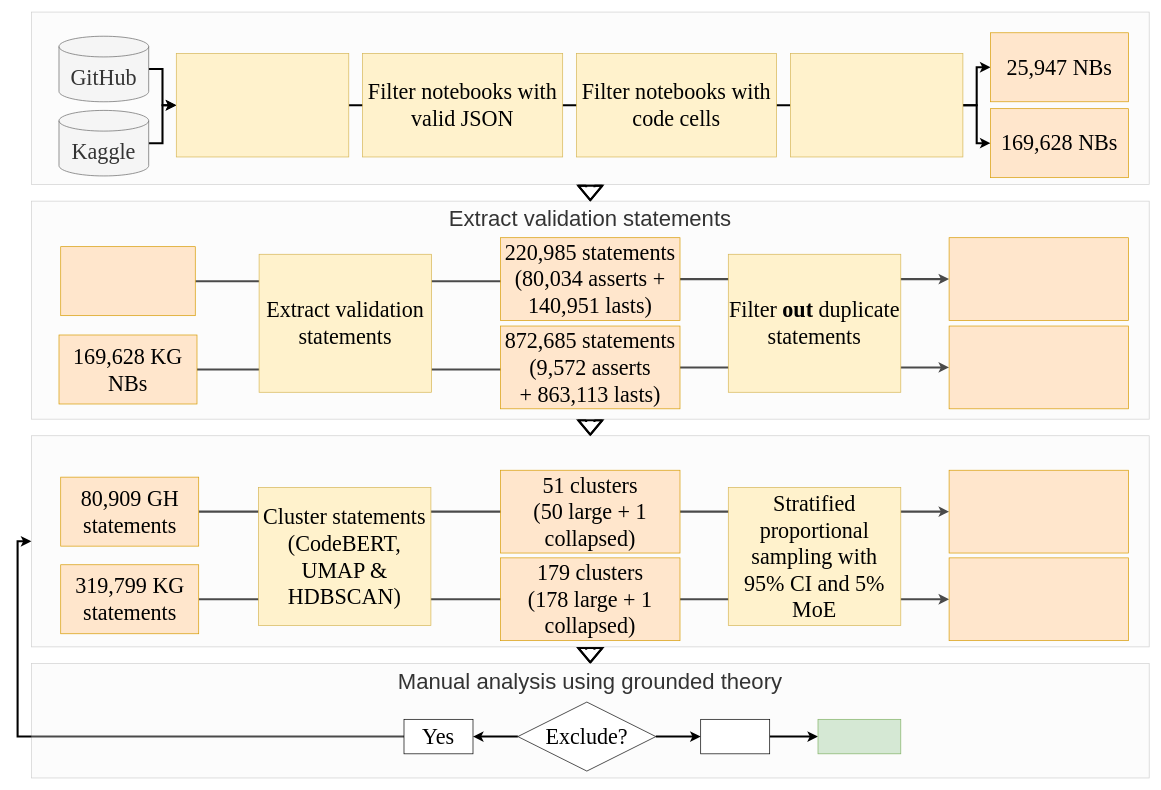
The diagram is 1161 pixels wide and 790 high, and some of its shapes have lost their labels. Each missing label, with the box of its shape:
25,947 GH NBs: (60, 246, 195, 316)
319,799 statements (3278 asserts + 316,521 lasts): (948, 325, 1128, 409)
383 statements (119 asserts + 264 lasts): (948, 470, 1128, 553)
433 statements (4 asserts + 429 lasts): (948, 557, 1128, 641)
80,909 statements (23 ,837 asserts + 57,072 lasts): (948, 237, 1128, 321)
Analyze: (817, 719, 901, 754)
Clustering and sampling: (31, 435, 1149, 647)
Filter ML notebooks: (790, 53, 963, 157)
Filter Python notebooks: (176, 53, 349, 157)
Identify relevant notebooks: (31, 11, 1149, 185)
No: (700, 719, 770, 754)
